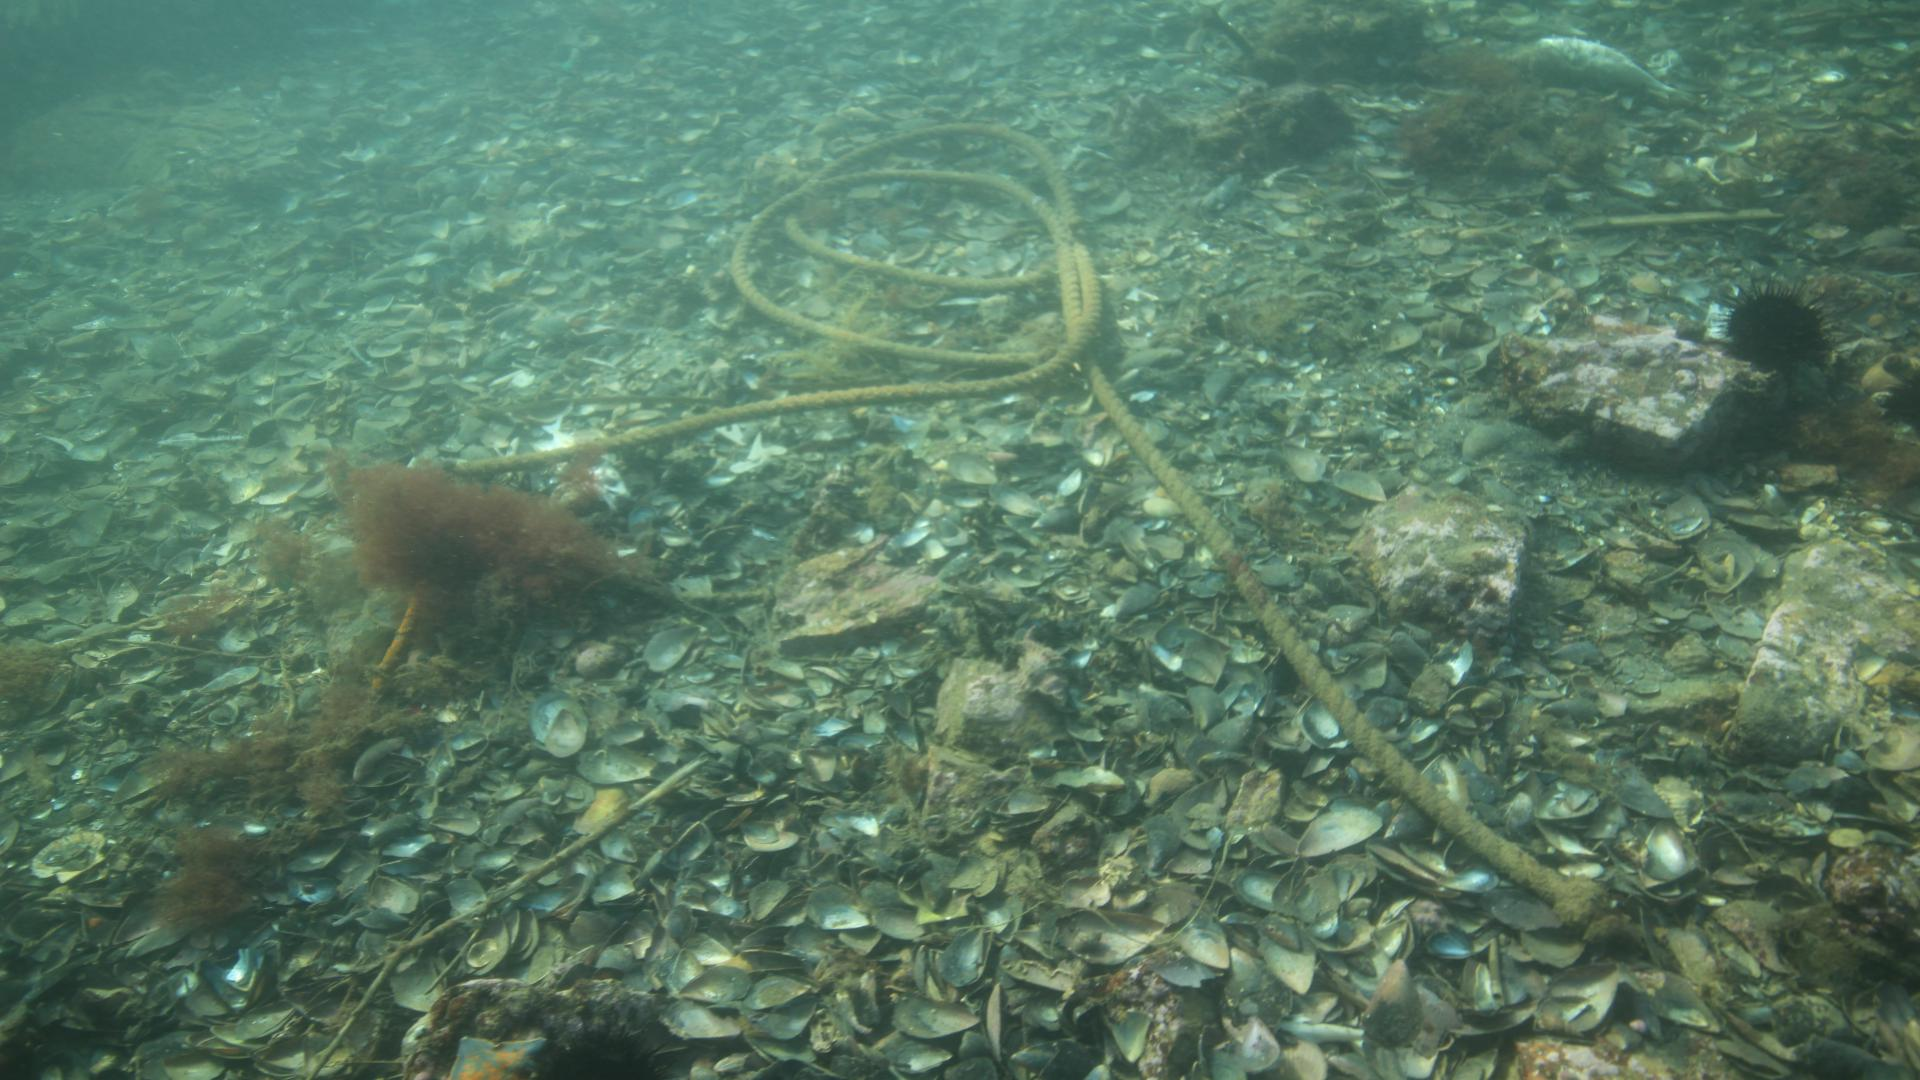bundle of ropes: (456, 117, 1563, 902)
